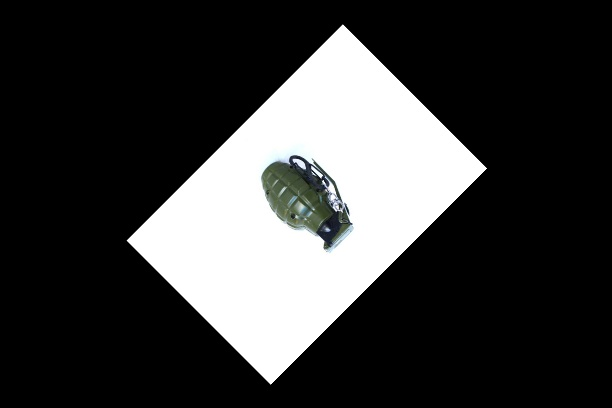e1: (261, 154, 351, 255)
